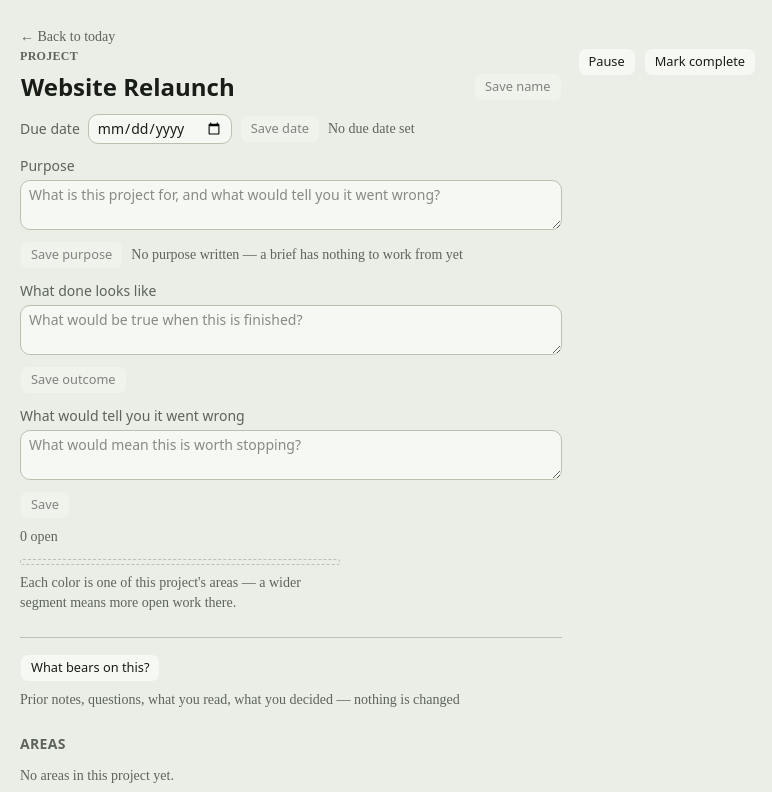
ProjectRoute › offers the decisions taken while looking at it
Expected: the field showing "Website Relaunch" is shown, left=16, top=68, right=466, bottom=106
Click the button "What bears on this?" at (90, 668), box left=20, top=654, right=160, bottom=682
(page scrolled)
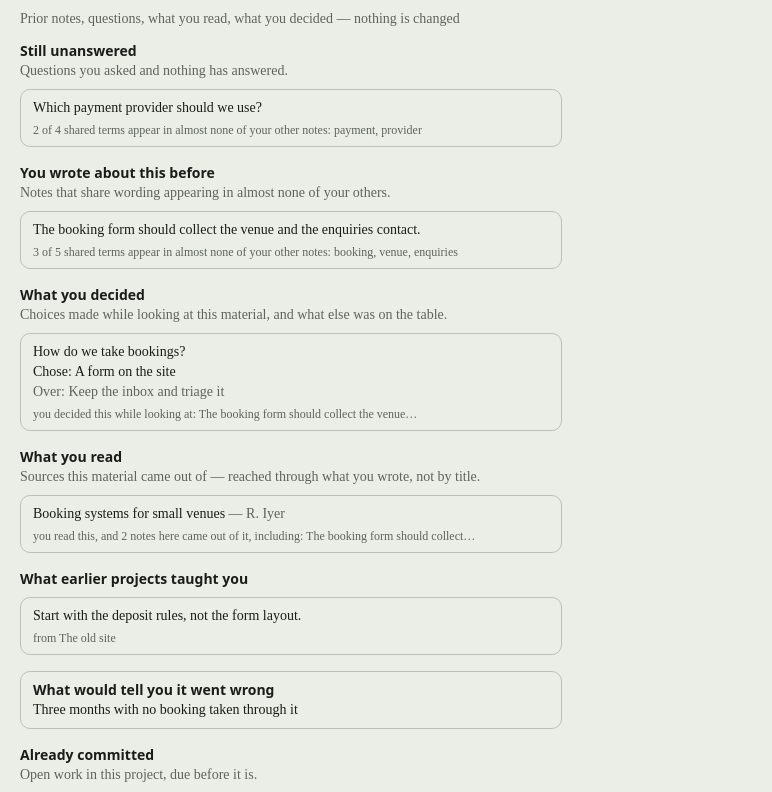
Expected: the text "How do we take bookings?" is shown, left=33, top=344, right=185, bottom=359
Expected: the text "Over: Keep the inbox and triage it" is shown, left=33, top=384, right=224, bottom=399
